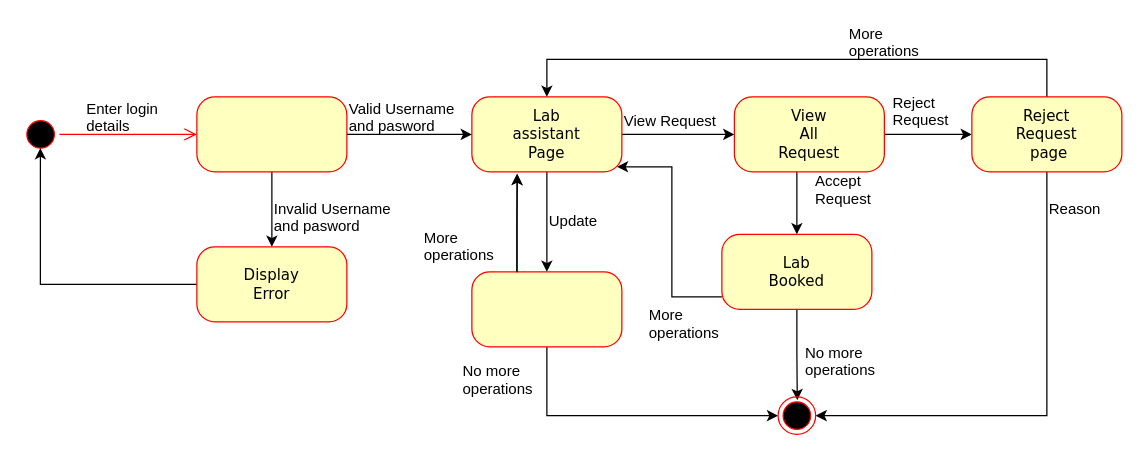
The diagram is 1144 pixels wide and 456 high, and some of its shapes have lost their labels. The shapes that lost their labels are listed below. From the top down, each one's box as (x1, y1, x2, y2) in pixels, then its label:
(196, 96, 347, 172): Login
(471, 271, 622, 347): Update form display and fill Details
